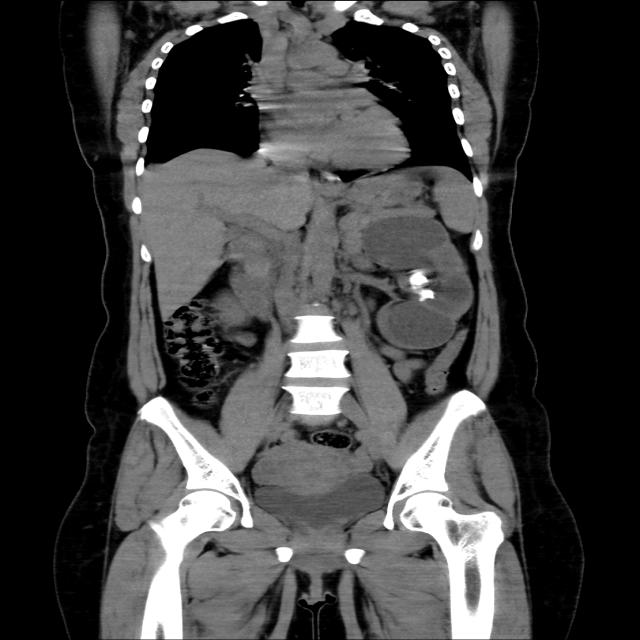kidneystone: (409, 270, 434, 301)
